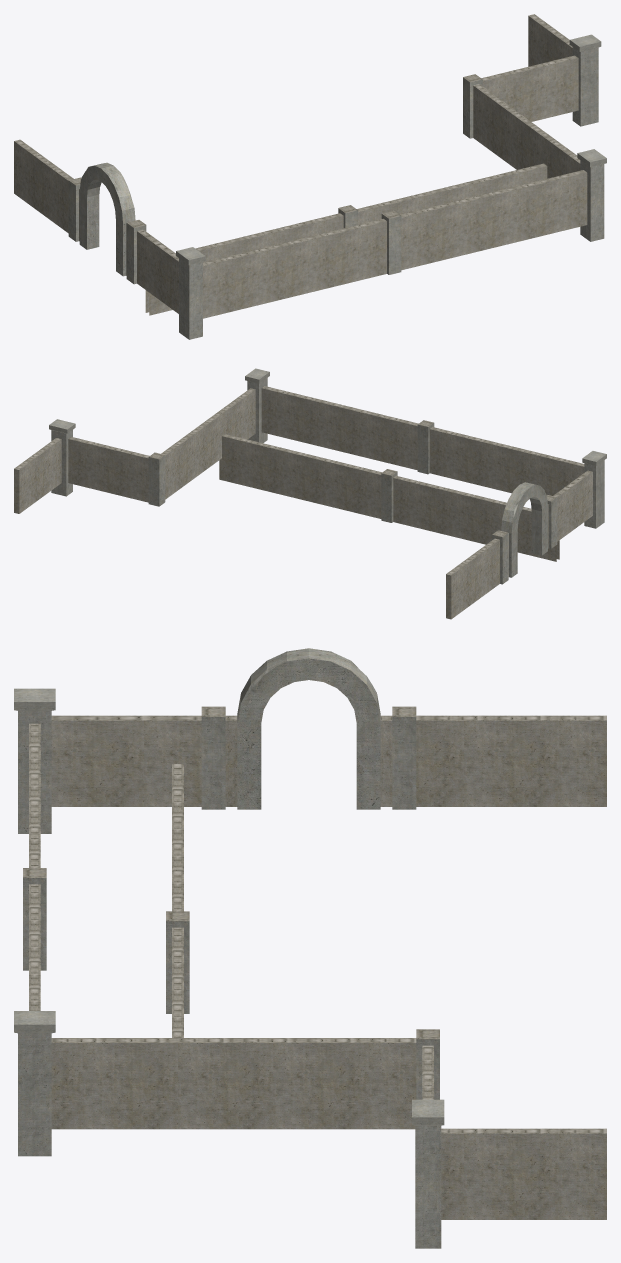
Rendered from poi_all_corral_half_64x64_s03_l0.fbx.
3 views of the same model, one above another, from view 1: azimuth 30°, elevation 25°; view 2: azimuth 150°, elevation 25°; view 3: azimuth 270°, elevation 25° (orthographic). The views are drawn at different scales.
Parts seen in each view (by area): view 1: mesh_node; view 2: mesh_node; view 3: mesh_node.
Part boxes in pixels (left/top/right/bottom): mesh_node: left=14, top=14, right=606, bottom=339; mesh_node: left=14, top=368, right=606, bottom=619; mesh_node: left=14, top=648, right=606, bottom=1248.
Size of the model in its own units: 42.55 by 9 by 24.87.
